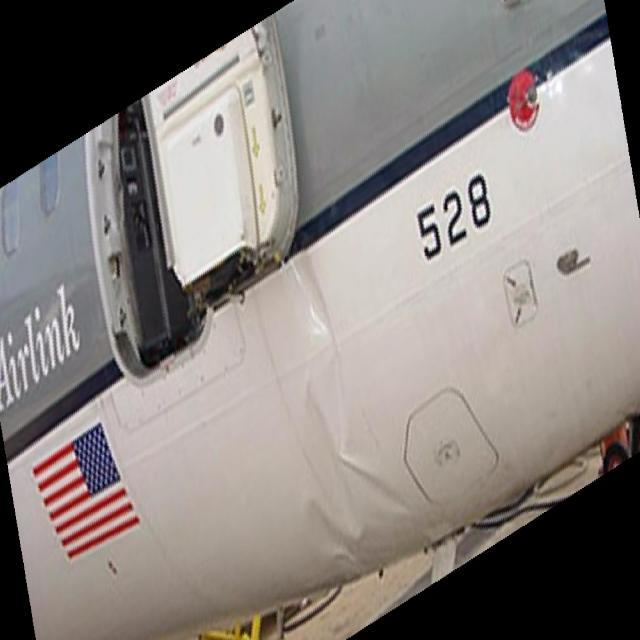dent: (294, 260, 413, 561)
